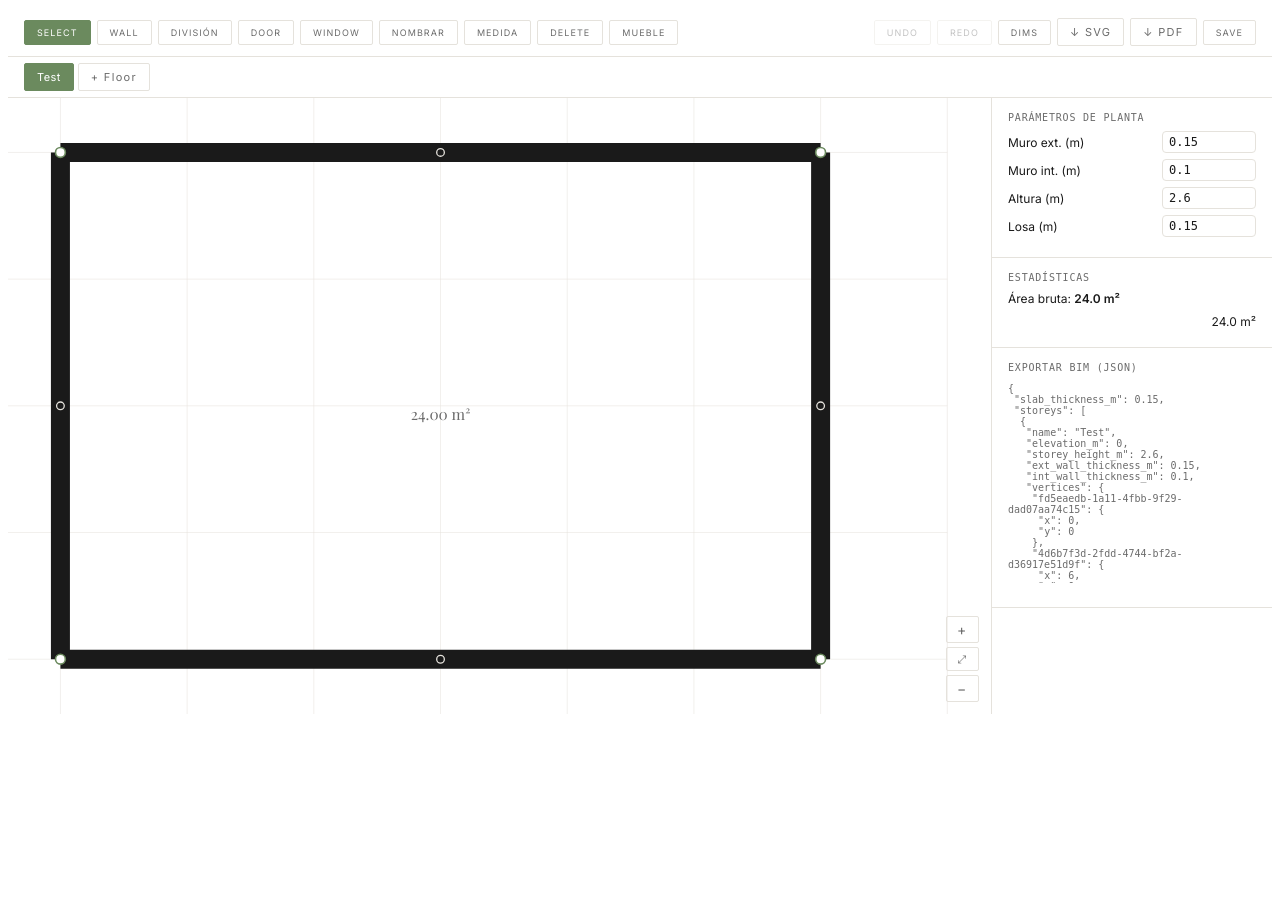
Test: herramienta DIVISIÓN (paredes fantasma) › el botón división inserta una arista punteada seleccionada, con su inspector de división
Click the button "división" at (195, 32), box [158,20,232,44]
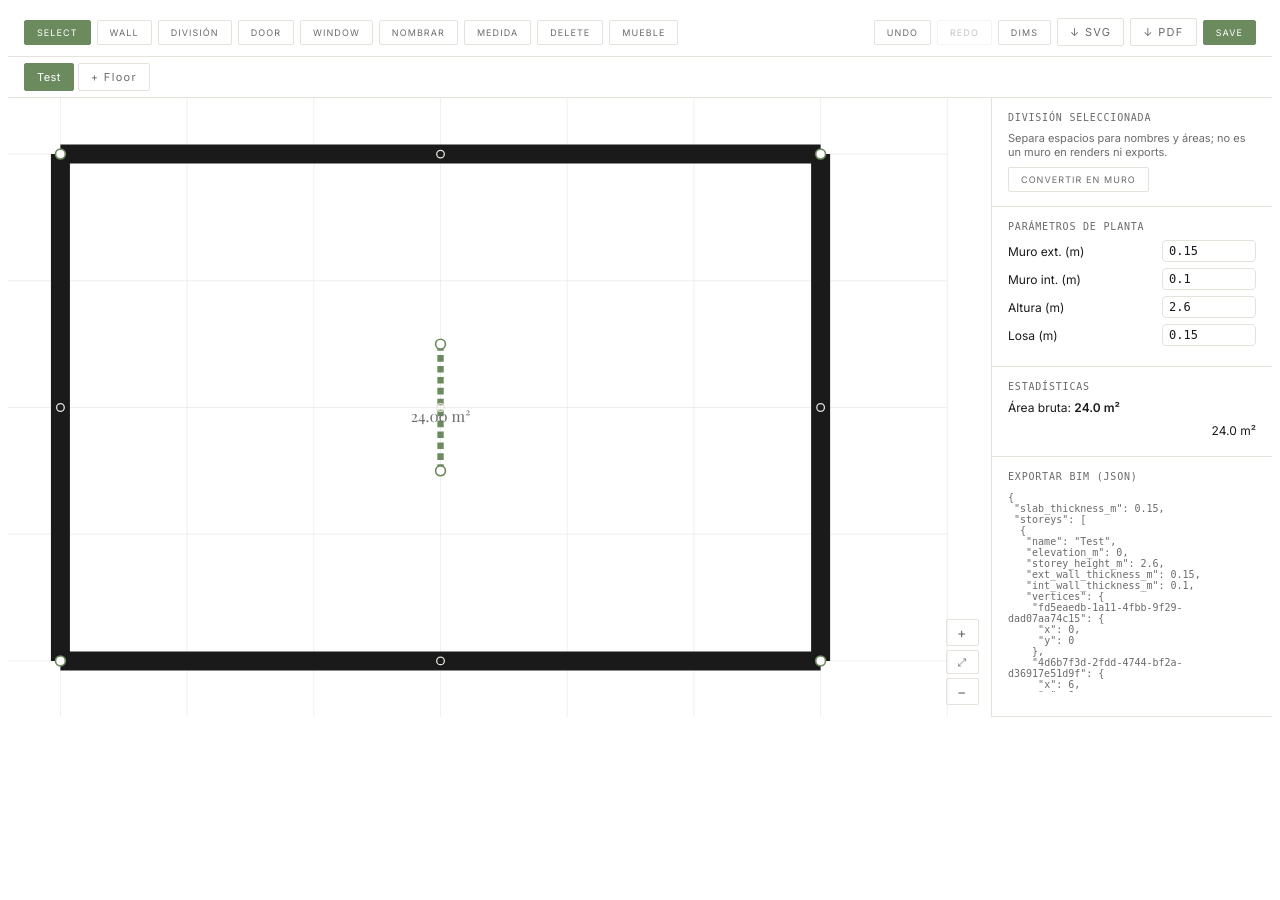
Result: the button "CONVERTIR EN MURO" is shown at [1008,167,1149,192]
